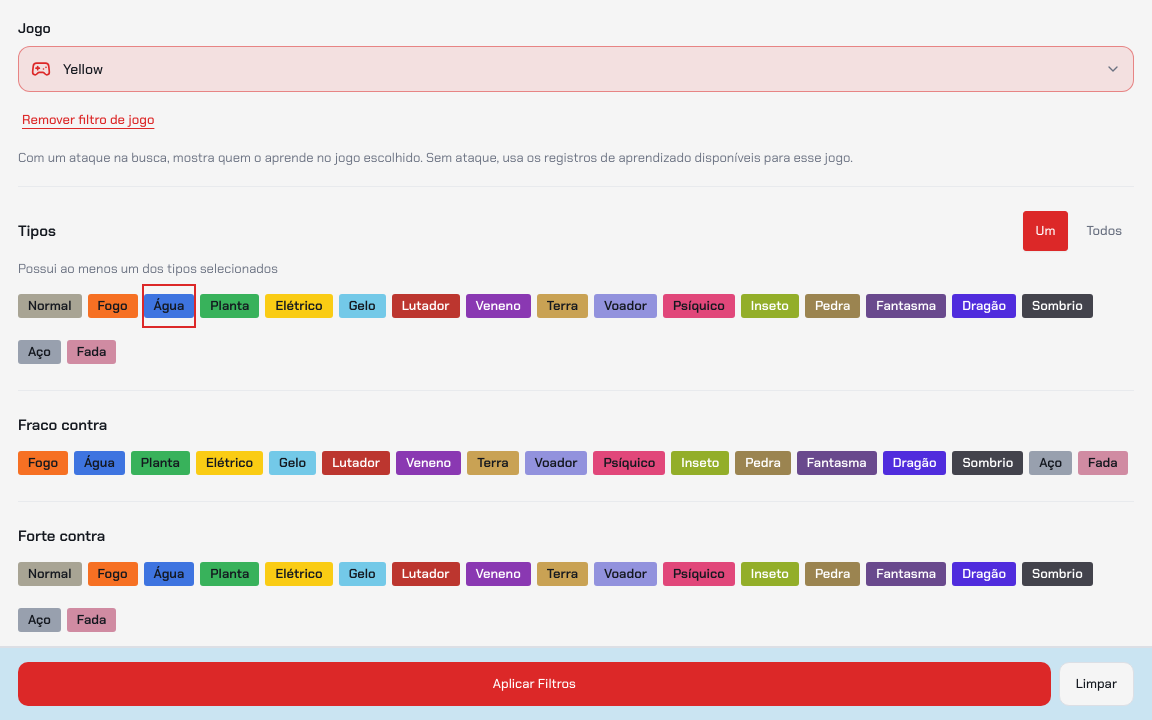
Test case: game filter controls › offers all games and resets the game along with the other filters
Later steps or results of the test are not shown.
Step 1. Click the button named "Jogo Yellow" → (83, 69), box [18,46,1134,92]
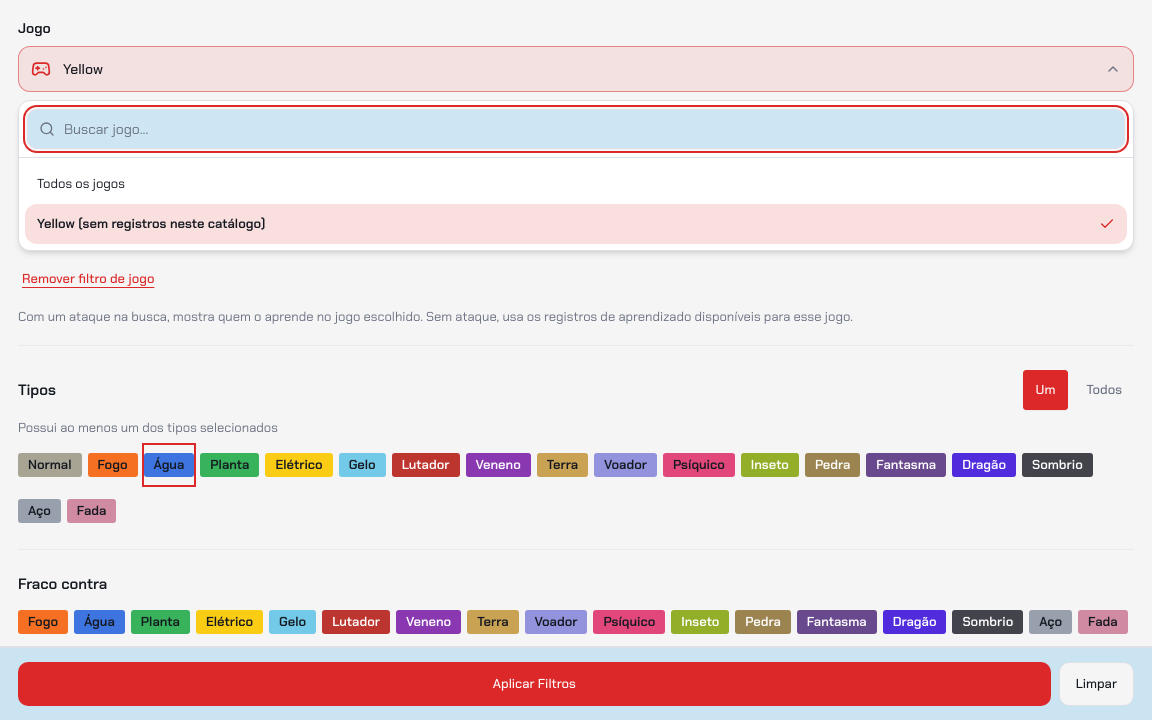
Result: the button "Todos os jogos" is shown at [25,164,1127,204]
Result: the button "Yellow (sem registros neste catálogo)" is shown at [25,204,1127,244]
